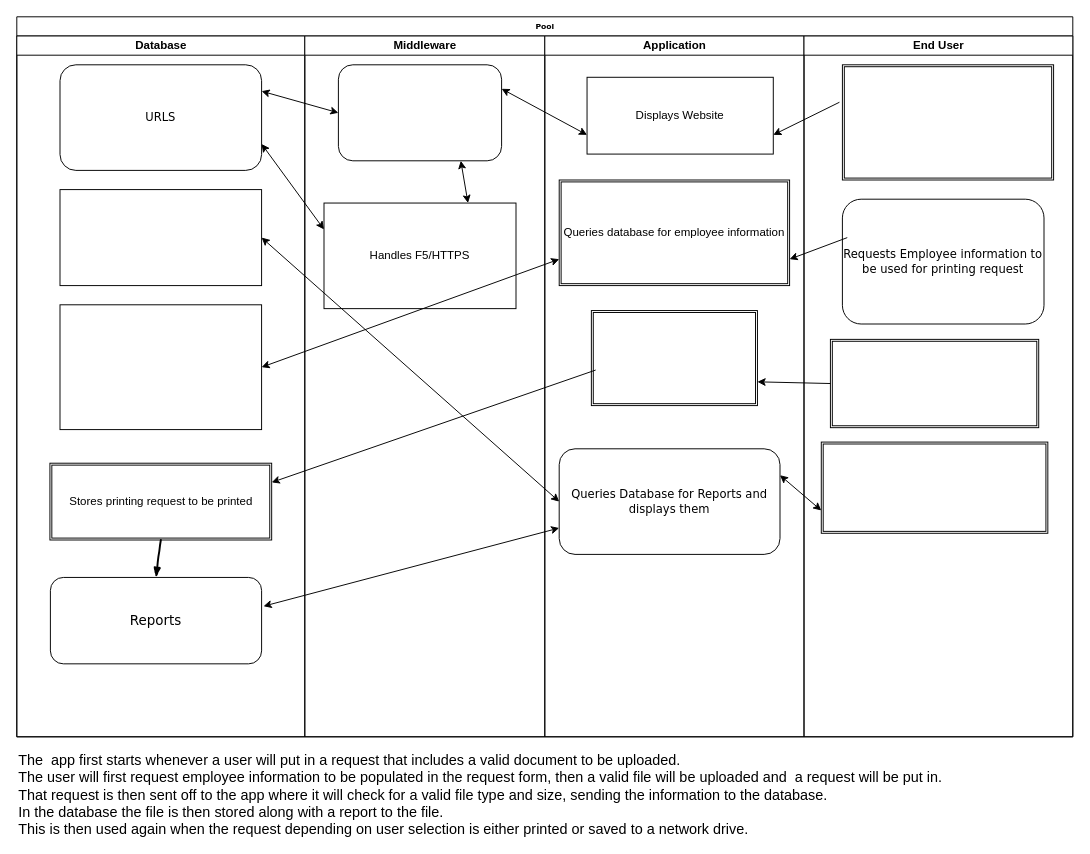
The diagram is 1090 pixels wide and 854 high, and some of its shapes have lost their labels. The centre of each missing label's shape, as x and y in pixels:
Employee information: point (160, 367)
Permissions: point (160, 237)
Printing Request: point (934, 383)
Printing Request Submitted: point (673, 358)
Requesting Report for printing request: point (934, 487)
Requests: point (419, 112)
Requests website: point (947, 122)
